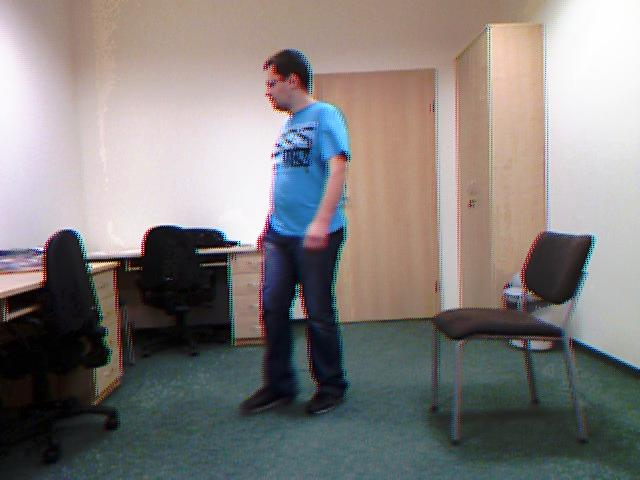standing: (231, 40, 371, 423)
